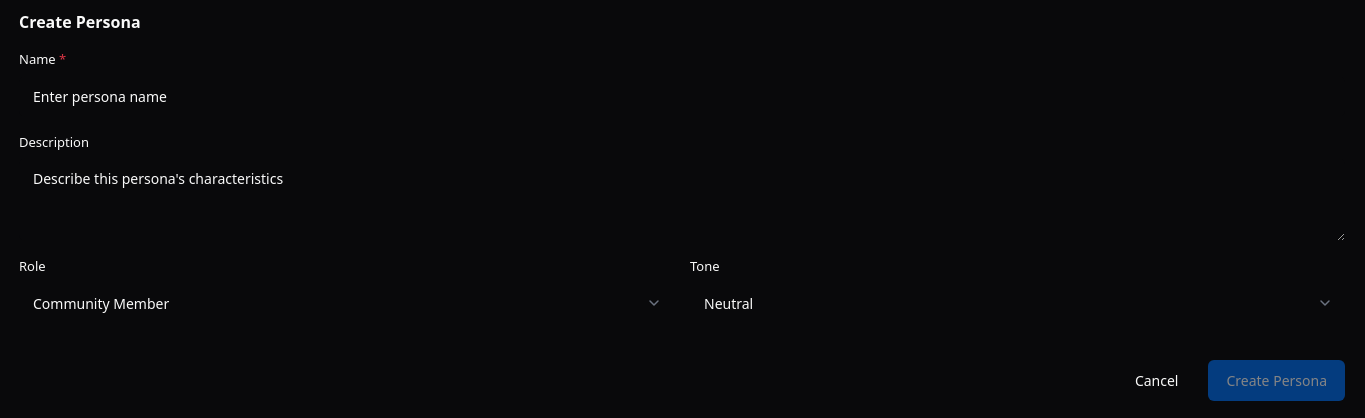
PersonaEditor › Validation › enables save button when name is provided
Type "Valid Name" into the field labelled "Name *" at (682, 96), box [19,76,1345,116]
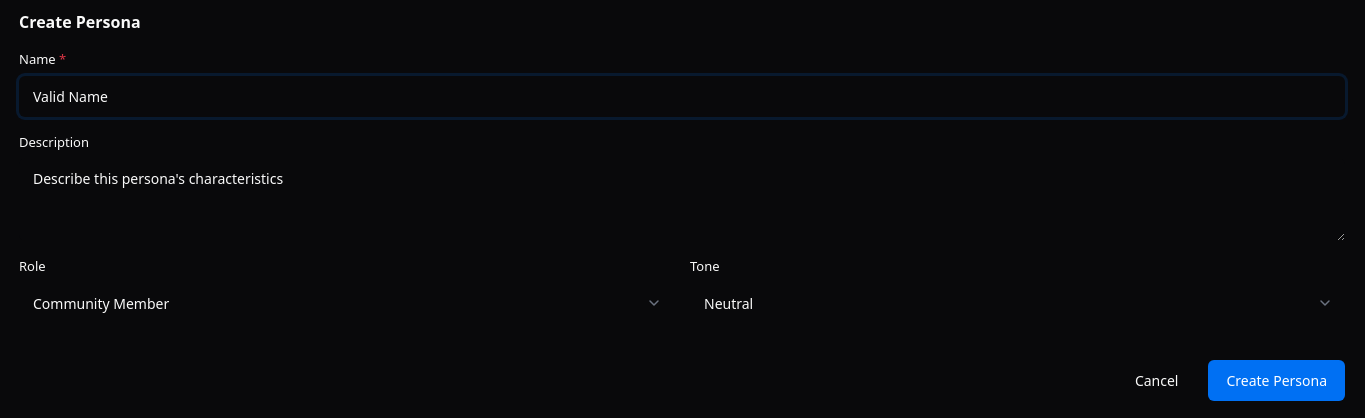
Now the button "Create Persona" is enabled, box [1208,360,1345,400]
